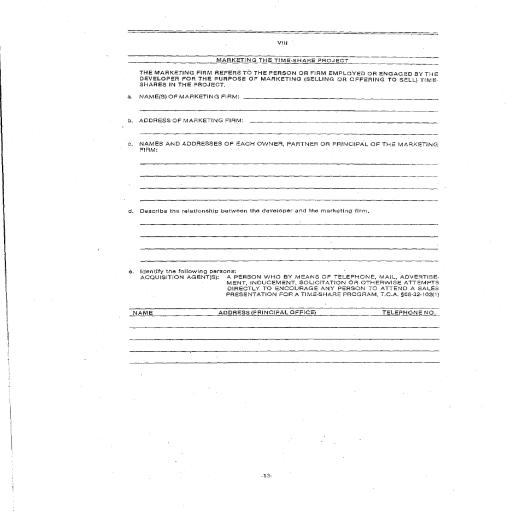Address: (212, 308, 321, 317)
free_text: (138, 140, 441, 158), (138, 206, 374, 217), (137, 90, 240, 102), (138, 115, 245, 126), (130, 308, 157, 317)
number: (379, 307, 443, 315)
